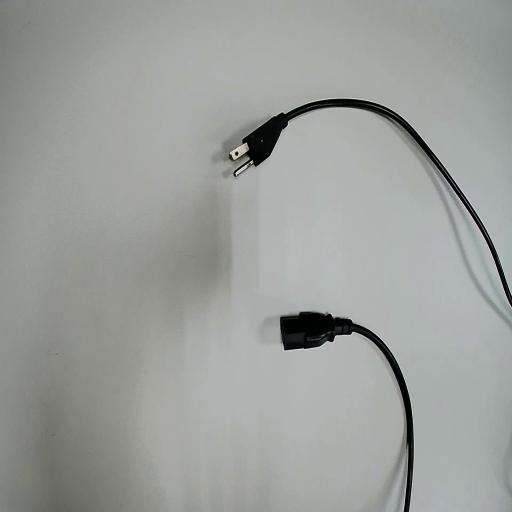wire: (243, 100, 511, 303), (281, 312, 412, 511)
